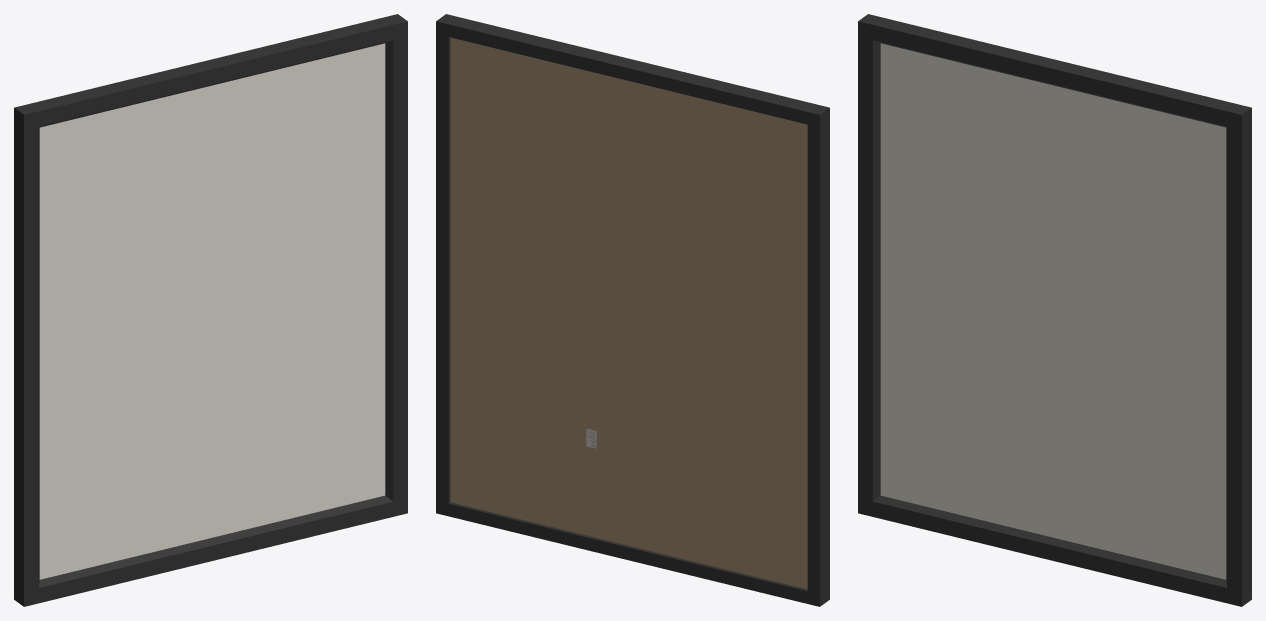
The model's file is custom-poster-40x50.glb.
The picture shows the model from 3 angles, left to right: view 1: azimuth 30°, elevation 25°; view 2: azimuth 150°, elevation 25°; view 3: azimuth 330°, elevation 25°; orthographic projection.
Parts seen in each view (by area): view 1: LAWHA 40x50; view 2: LAWHA 40x50; view 3: LAWHA 40x50.
Boxes of the visible parts, left/top/right/bottom form: LAWHA 40x50: left=14, top=14, right=407, bottom=606; LAWHA 40x50: left=436, top=14, right=829, bottom=606; LAWHA 40x50: left=858, top=14, right=1251, bottom=606.
Bounding box in the file's own units: 0.444 × 0.544 × 0.02.
4 materials, 1 textured.
